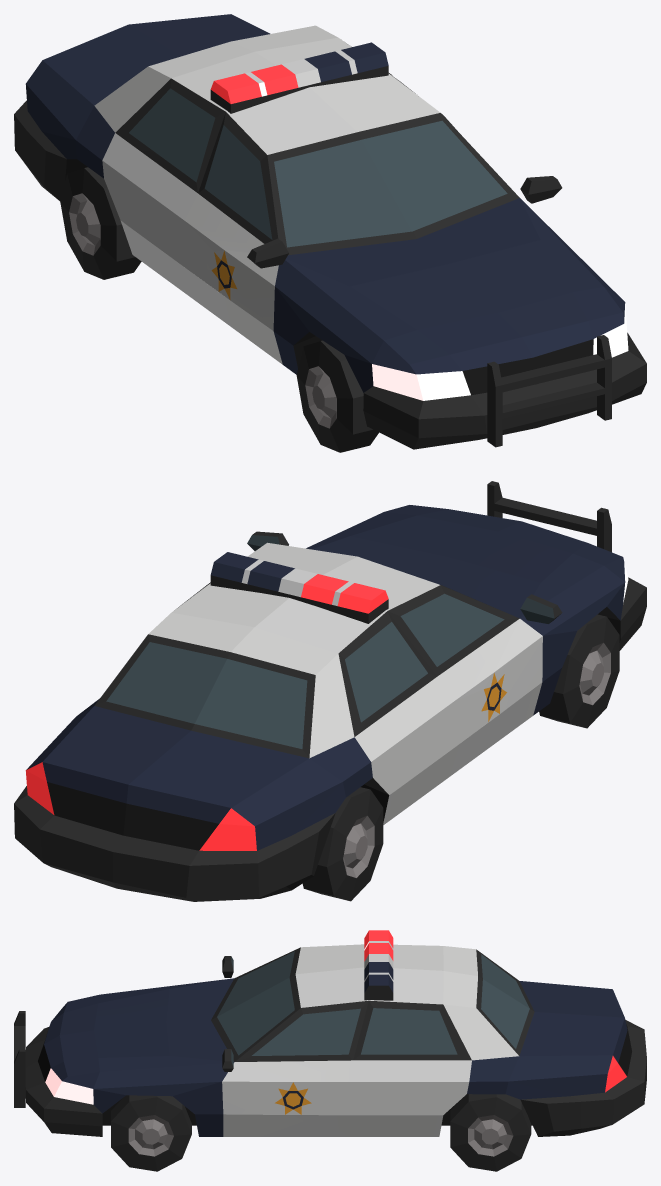
Rendered from vehicles_car-police.fbx.
3 renders of one model, top to bottom at view 1: azimuth 30°, elevation 25°; view 2: azimuth 150°, elevation 25°; view 3: azimuth 270°, elevation 25°, orthographic. The views are drawn at different scales.
Visible parts, largest first — view 1: car_police_base, car_police_wheel_FR, car_police_wheel_BR; view 2: car_police_base, car_police_wheel_BR, car_police_wheel_FR; view 3: car_police_base, car_police_wheel_BL, car_police_wheel_FL.
Boxes of the visible parts, x1,y1,x2,y2 form: car_police_base: (14,14,646,449); car_police_wheel_FR: (296,340,378,452); car_police_wheel_BR: (60,167,141,279); car_police_base: (14,481,646,901); car_police_wheel_BR: (302,787,383,901); car_police_wheel_FR: (539,614,619,728); car_police_base: (14,930,646,1136); car_police_wheel_BL: (450,1094,531,1171); car_police_wheel_FL: (111,1095,191,1171).
Bounding box in the file's own units: 80.57 × 58.26 × 200.
